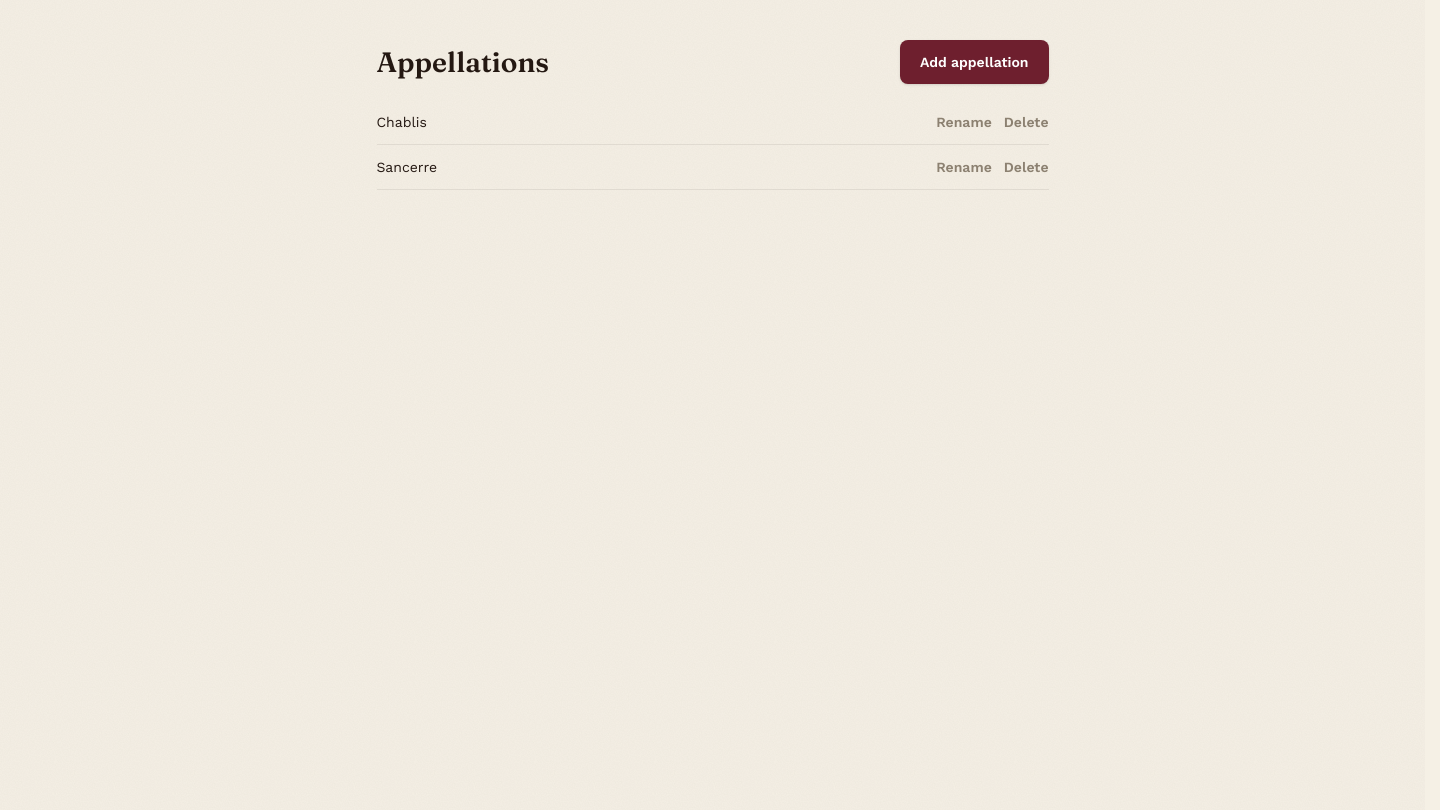
Test: AppellationListView › shows a blocked-delete error inline without removing the appellation
What coordinates should you click on to do the following:
click the button with test id "appellation-delete-button"
I would click on:
 (1026, 122)
Its box is [1004, 112, 1049, 132].
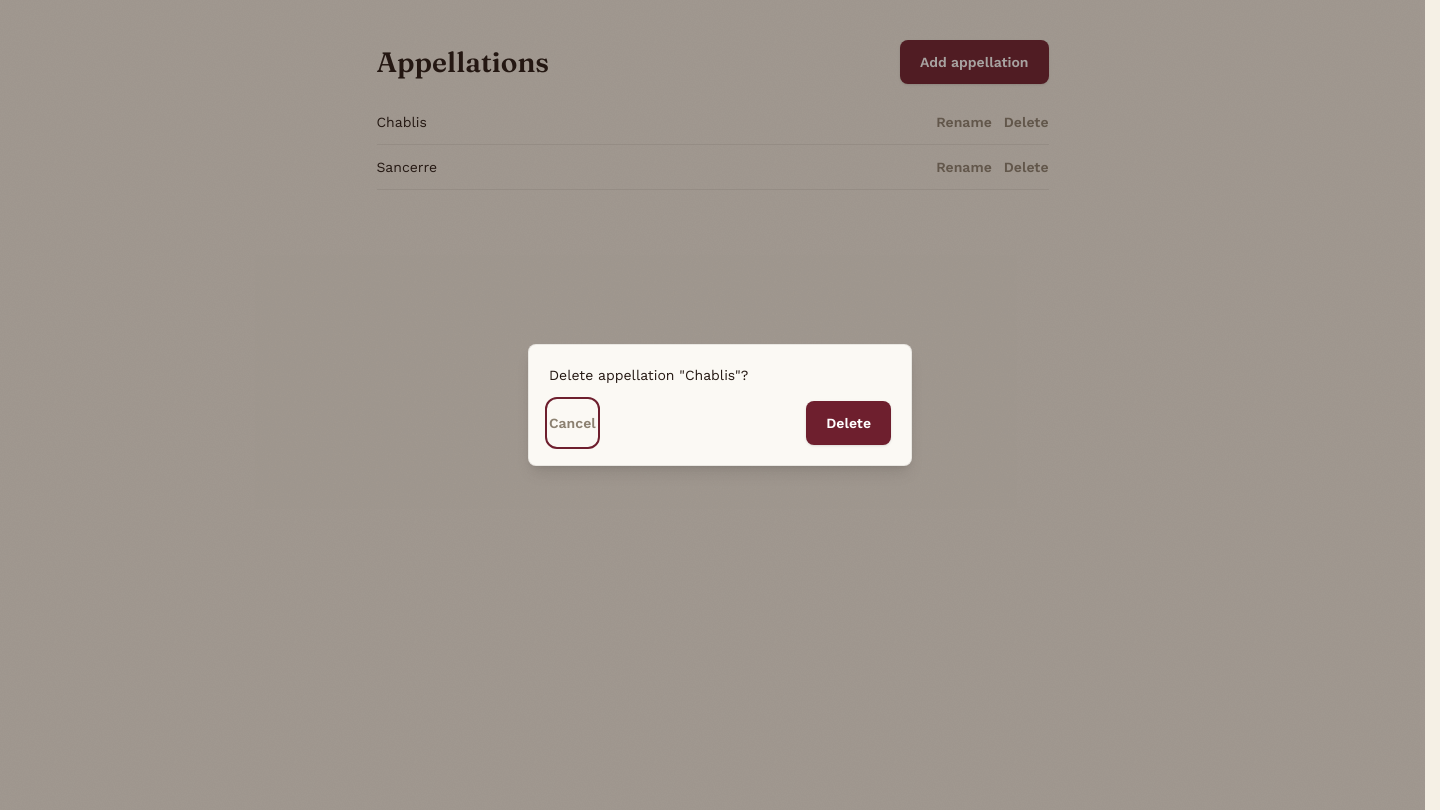
What coordinates should you click on to do the following:
click the button with test id "confirm-dialog-confirm"
I would click on:
 (849, 423)
Its box is [806, 401, 891, 445].
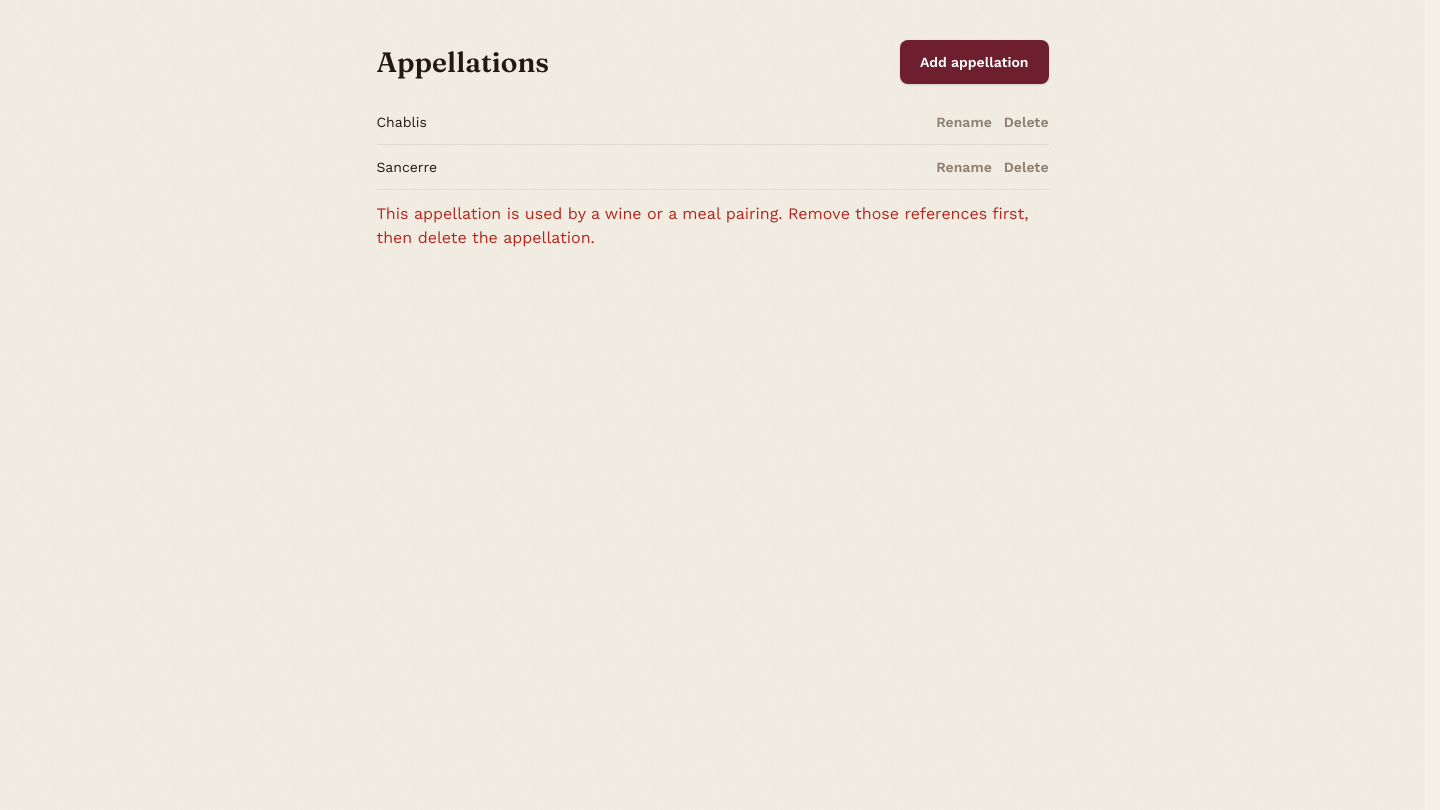
expect the number of list items with test id "appellation-item" is 2: met, box [376, 100, 1048, 145]; [376, 145, 1048, 190]
expect the message shows "wine or a meal pairing": met, box [376, 204, 1028, 247]
